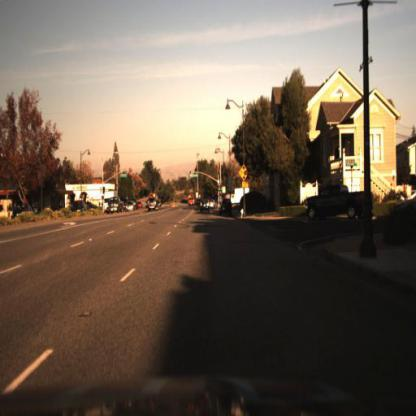car: (299, 178, 372, 225), (305, 186, 373, 219), (69, 198, 91, 216), (145, 192, 161, 216), (218, 196, 234, 220), (107, 196, 125, 216), (109, 197, 124, 218), (199, 197, 213, 215), (121, 202, 134, 220)
truck: (101, 192, 111, 216)
